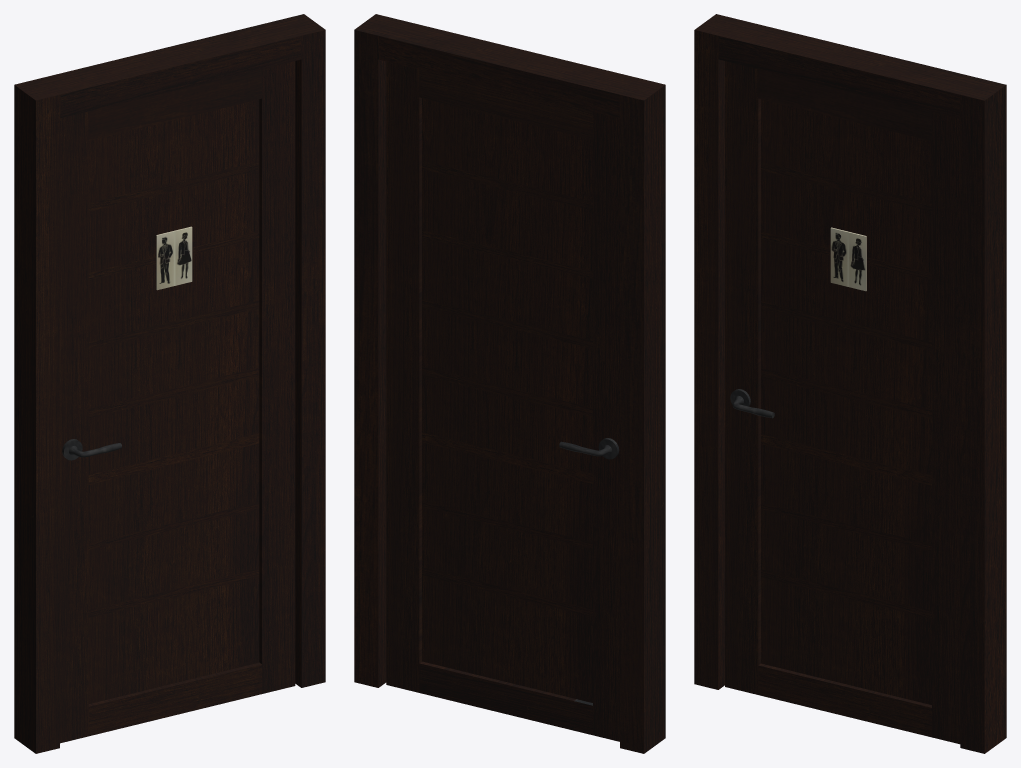
The model's file is Door 1.FBX.
3 views of the same model, side by side, from view 1: azimuth 30°, elevation 25°; view 2: azimuth 150°, elevation 25°; view 3: azimuth 330°, elevation 25° (orthographic).
Parts seen in each view (by area): view 1: Door, door frame; view 2: Door, door frame; view 3: Door, door frame.
Boxes of the visible parts, x1=… form: Door: x1=60, y1=61, x2=295, y2=743; door frame: x1=14, y1=14, x2=325, y2=753; Door: x1=386, y1=61, x2=619, y2=741; door frame: x1=354, y1=14, x2=665, y2=753; Door: x1=725, y1=61, x2=960, y2=744; door frame: x1=694, y1=14, x2=1006, y2=753.
Bounding box in the file's own units: 97.18 × 210 × 17.14.
Materials: 2 (2 with a texture image).
